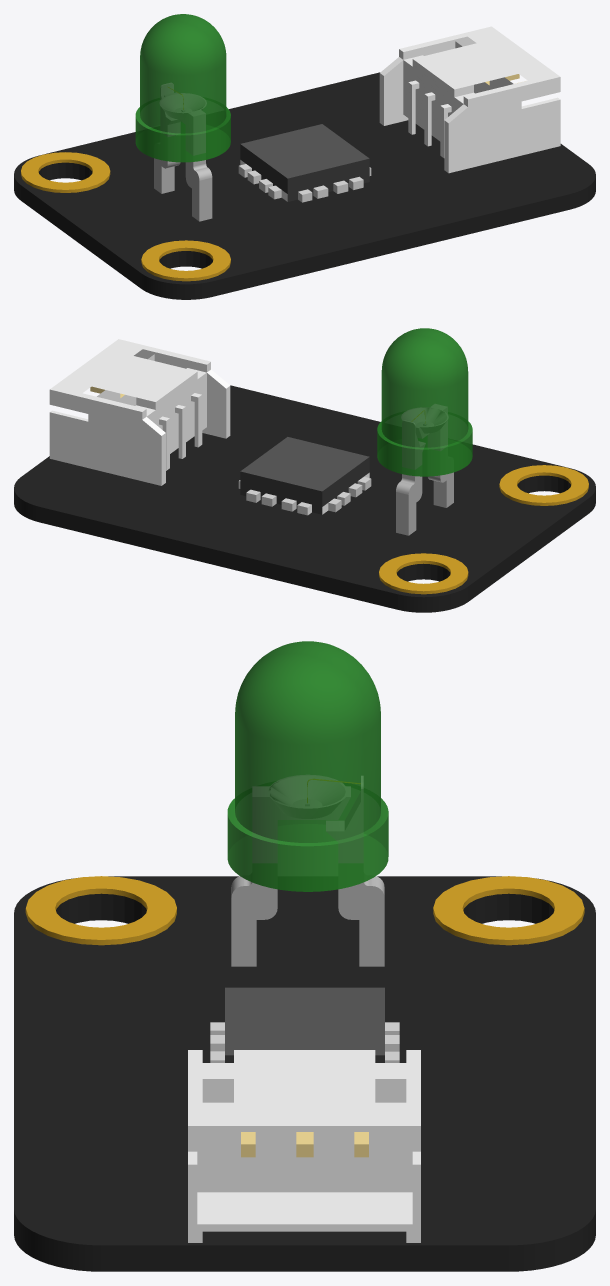
The model's file is Led.fbx.
3 views of the same model, one above another, from view 1: azimuth 30°, elevation 25°; view 2: azimuth 150°, elevation 25°; view 3: azimuth 270°, elevation 25° (orthographic). The views are drawn at different scales.
Parts seen in each view (by area): view 1: Group2, JST_Connector_3_way1, Group6, Group1, Group5, Group3, Group4; view 2: Group2, JST_Connector_3_way1, Group6, Group1, Group5, Group3, Group4; view 3: Group2, JST_Connector_3_way1, Group6, Group5, Group1, Group4, Group3.
Part boxes in pixels (left/top/right/bottom): Group2: left=14, top=72, right=595, bottom=299; JST_Connector_3_way1: left=379, top=26, right=560, bottom=173; Group6: left=135, top=14, right=230, bottom=162; Group1: left=238, top=124, right=371, bottom=202; Group5: left=154, top=83, right=212, bottom=221; Group3: left=21, top=152, right=110, bottom=192; Group4: left=141, top=240, right=230, bottom=281; Group2: left=14, top=385, right=595, bottom=612; JST_Connector_3_way1: left=49, top=339, right=230, bottom=485; Group6: left=377, top=328, right=472, bottom=476; Group1: left=238, top=437, right=371, bottom=515; Group5: left=396, top=404, right=453, bottom=535; Group3: left=379, top=553, right=468, bottom=594; Group4: left=499, top=465, right=588, bottom=505; Group2: left=14, top=876, right=595, bottom=1271; JST_Connector_3_way1: left=188, top=1050, right=420, bottom=1242; Group6: left=227, top=641, right=388, bottom=891; Group5: left=231, top=775, right=384, bottom=966; Group1: left=210, top=987, right=399, bottom=1062; Group4: left=25, top=876, right=176, bottom=945; Group3: left=433, top=876, right=584, bottom=945.
Bounding box in the file's own units: 30 × 12.88 × 20.
